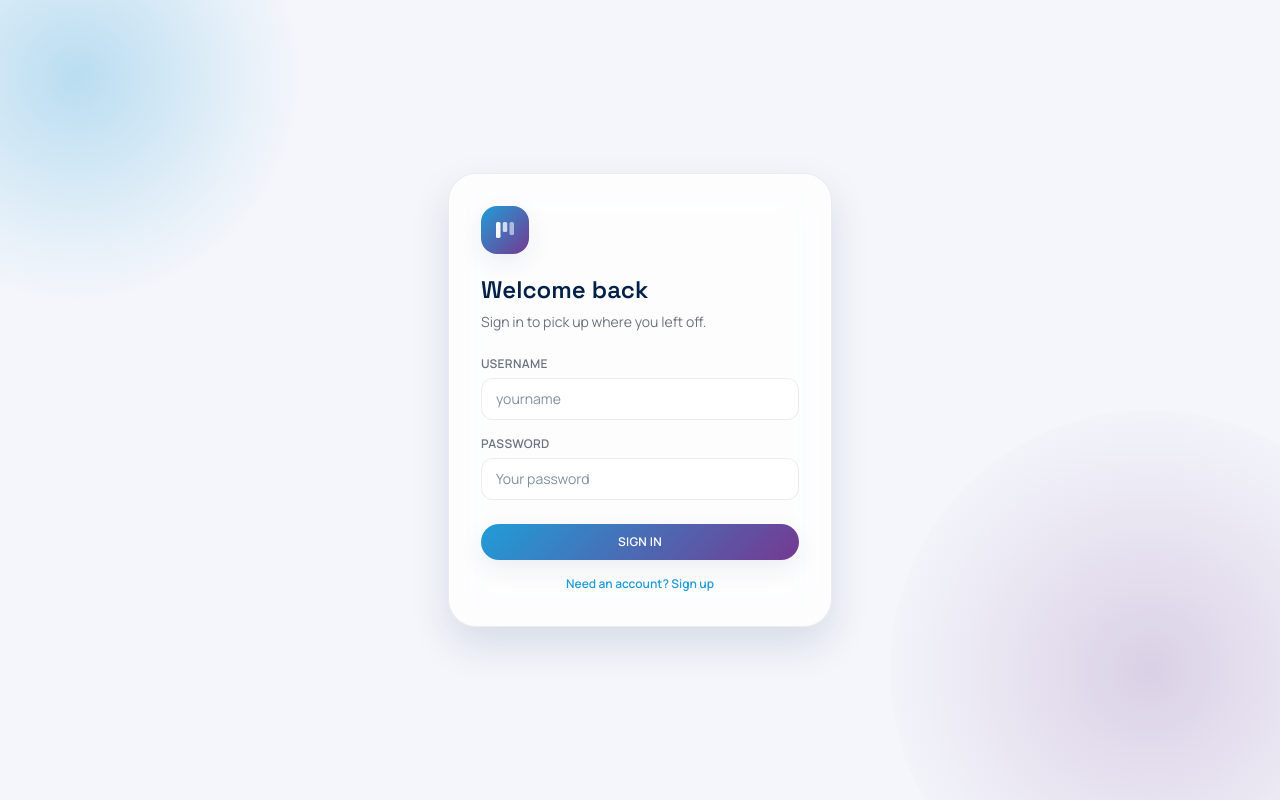
AuthGate › toggles to the signup form and back
Expected: the heading "Welcome back" is shown, [481,274,648,305]
Step 1. Click the button "Need an account? Sign up" → (640, 584), box [481,576,799,592]
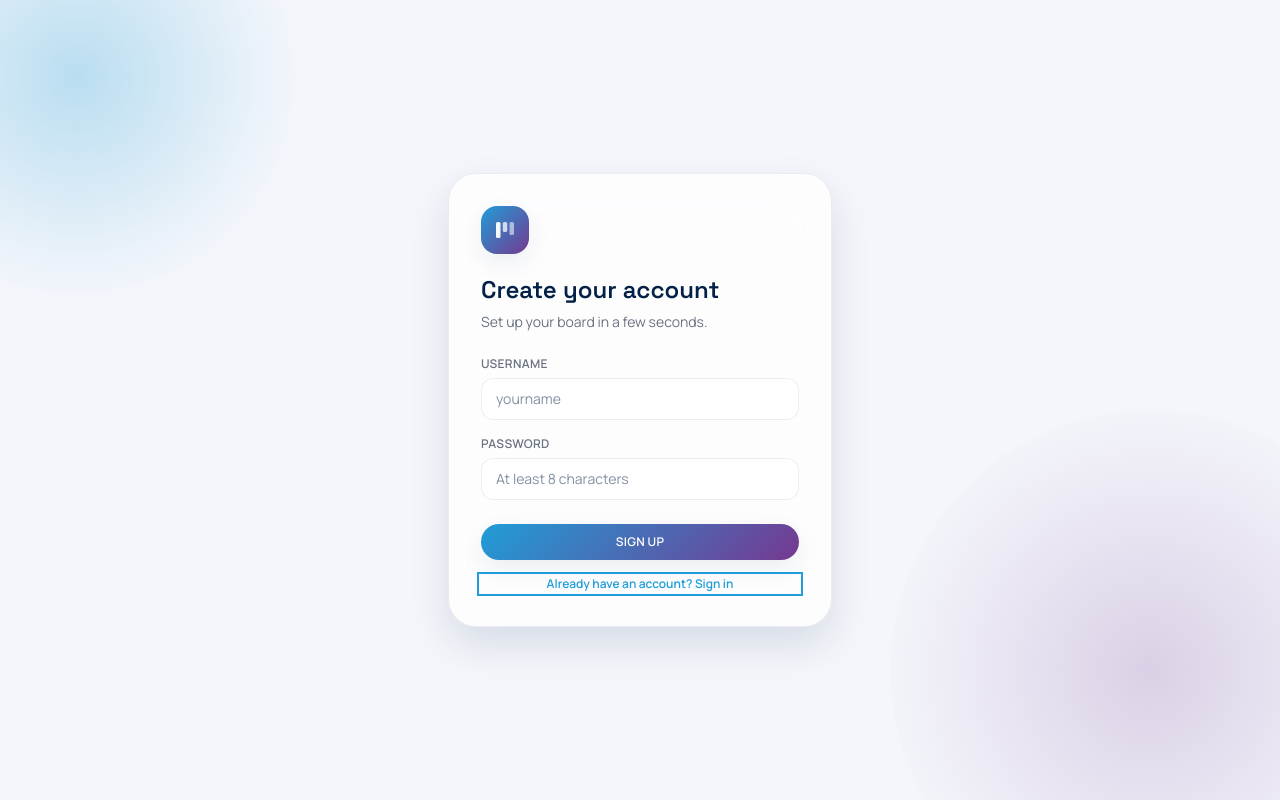
Expected: the heading "Create your account" is shown, [481,274,719,305]
Step 2. Click the button "Already have an account? Sign in" → (640, 584), box [481,576,799,592]
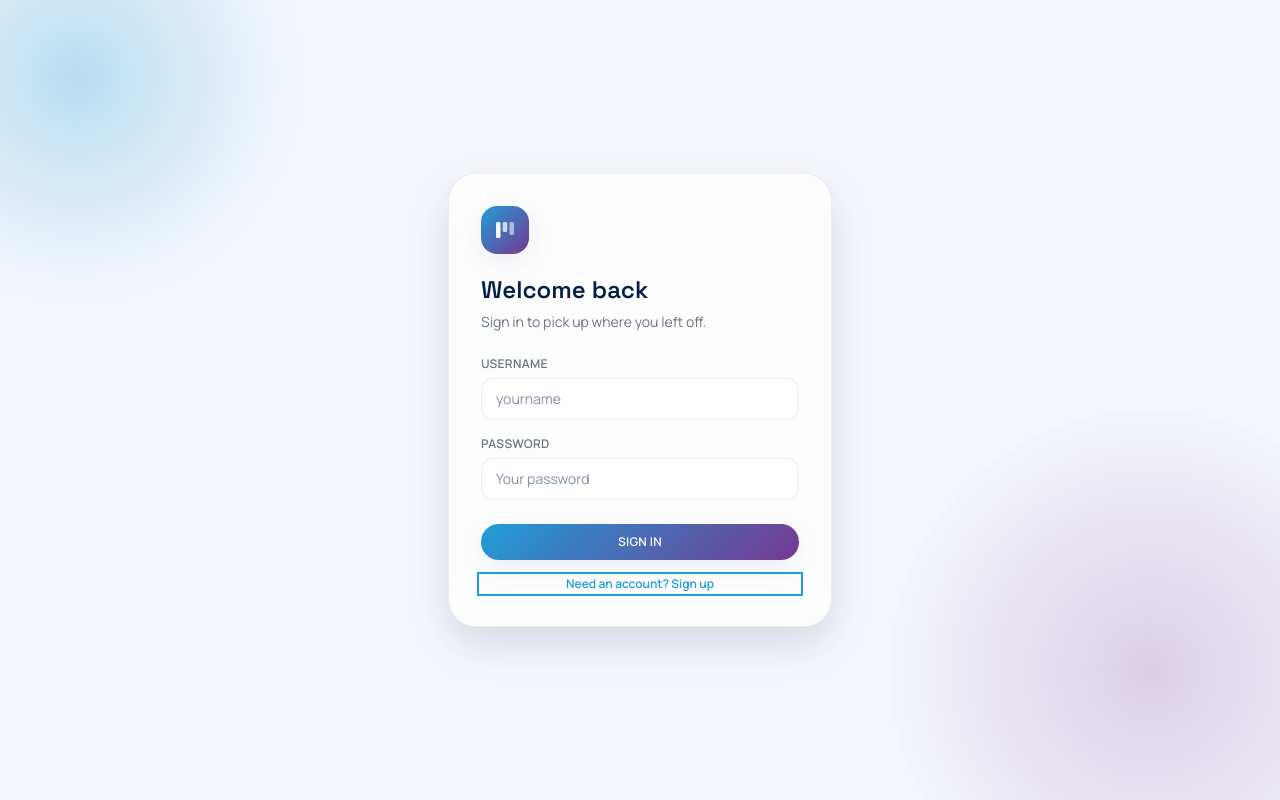
Expected: the heading "Welcome back" is shown, [481,274,648,305]
